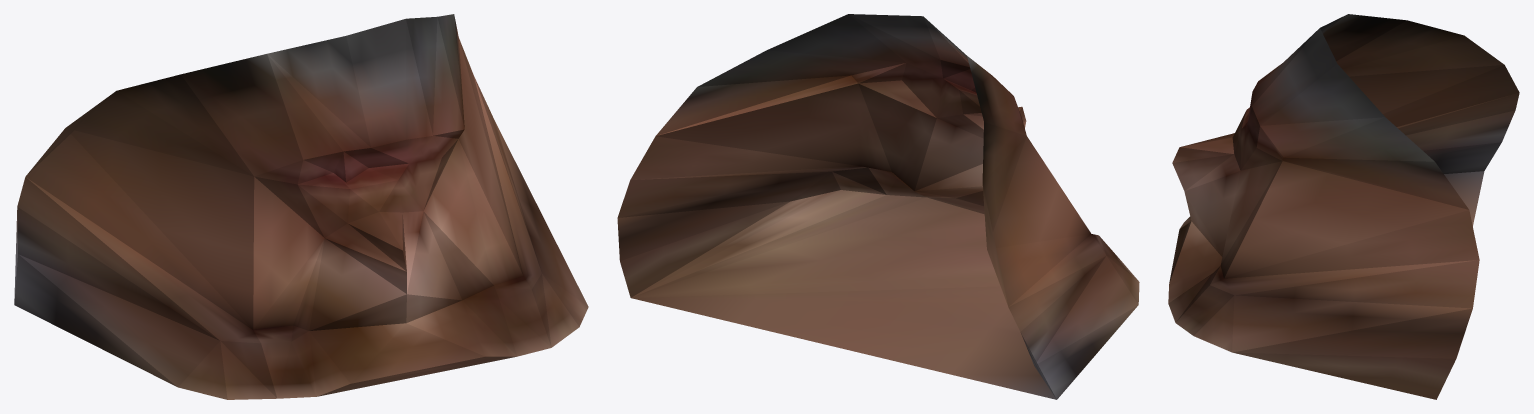
The model's file is fake_59232.obj.
3 renders of one model, left to right at view 1: azimuth 30°, elevation 25°; view 2: azimuth 150°, elevation 25°; view 3: azimuth 270°, elevation 25°, orthographic. The views are drawn at different scales.
Bounding box in the file's own units: 138 × 85 × 101.
